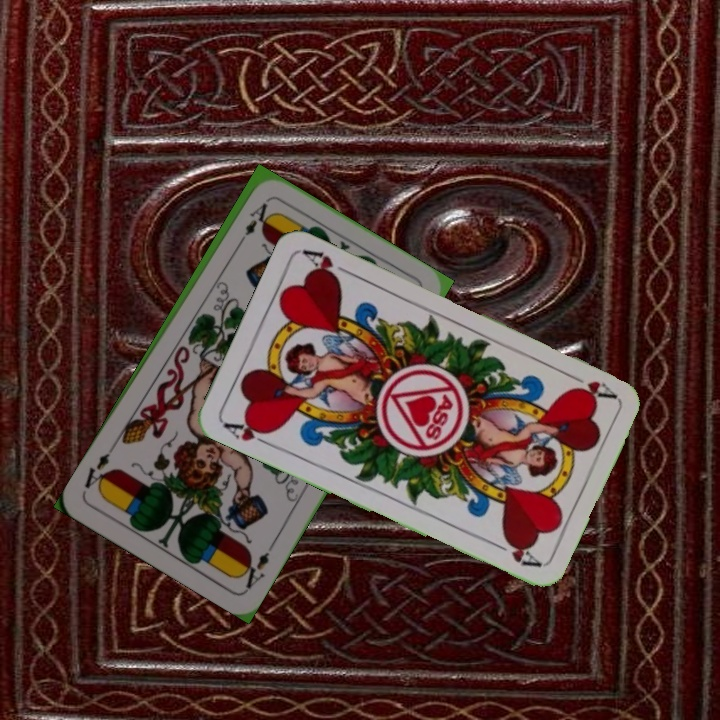EA: (235, 539, 277, 591), (232, 199, 271, 250)
HA: (562, 368, 618, 404), (219, 415, 276, 450)
